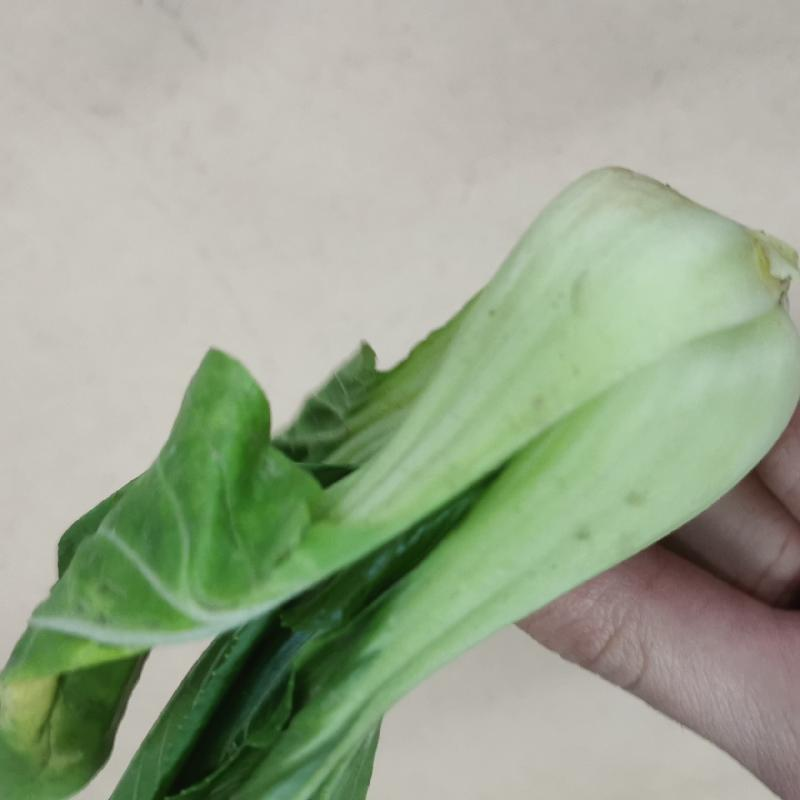green vegatable: (0, 165, 799, 800)
